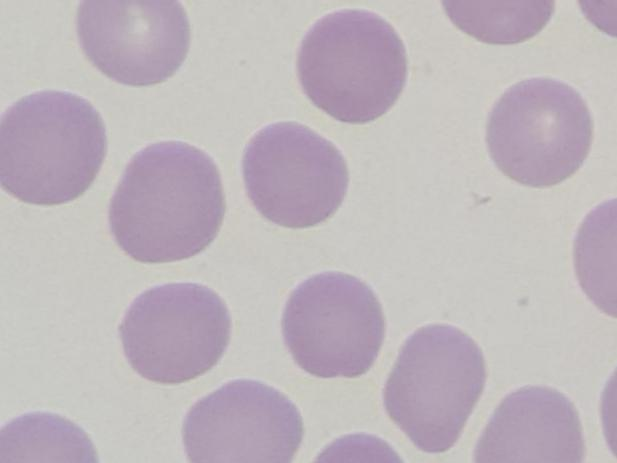Uninfected: (107, 139, 227, 263), (384, 323, 486, 455), (298, 9, 407, 124), (0, 90, 105, 208), (484, 75, 593, 187), (240, 122, 347, 229), (281, 270, 385, 380), (116, 284, 230, 382), (76, 0, 189, 90), (182, 378, 300, 463), (476, 388, 580, 463)
